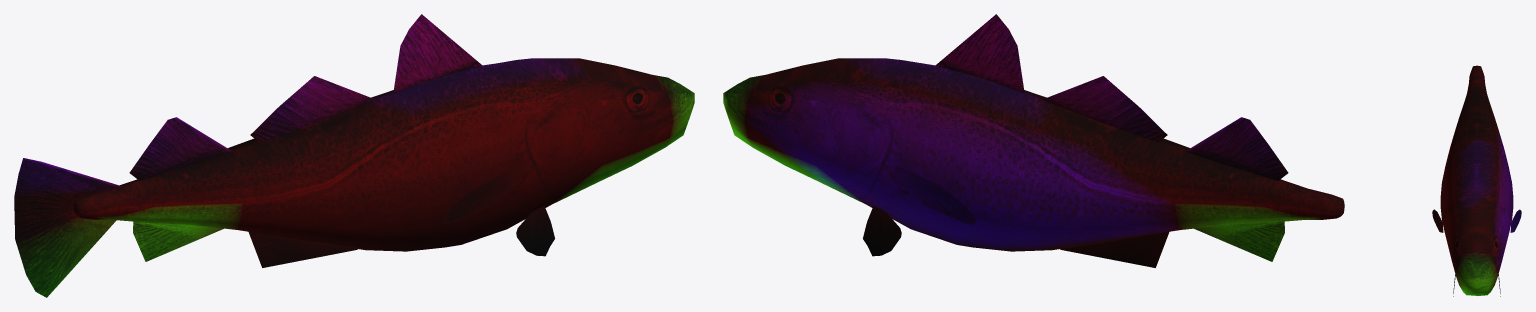
Rendered from atlantic_cod.glb.
3 renders of one model, left to right at view 1: azimuth 30°, elevation 25°; view 2: azimuth 150°, elevation 25°; view 3: azimuth 270°, elevation 25°, orthographic. The views are drawn at different scales.
Visible parts, largest first — view 1: AtlanticCod; view 2: AtlanticCod; view 3: AtlanticCod.
Boxes of the visible parts, x1,y1,x2,y2 form: AtlanticCod: [14, 14, 694, 297]; AtlanticCod: [723, 14, 1344, 267]; AtlanticCod: [1432, 65, 1521, 296].
Bounding box in the file's own units: 1 × 0.3565 × 0.1809.
1 material, 1 textured.
